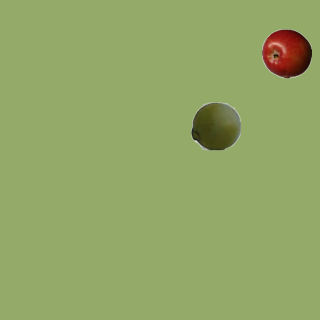Apple Braeburn: (261, 28, 311, 78)
Grape White 4: (190, 100, 240, 150)
